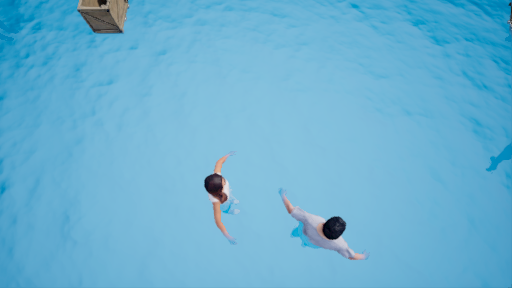person: (277, 184, 367, 265), (207, 154, 256, 254)
